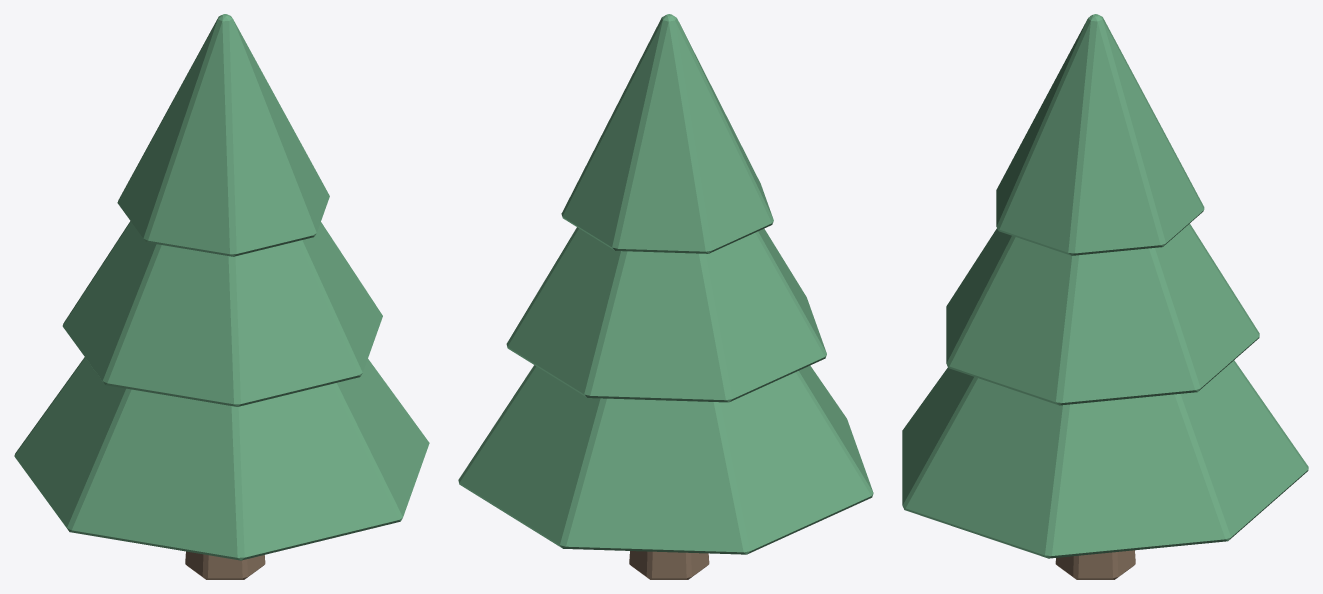
Rendered from pine_medium.glb.
3 views of the same model, side by side, from view 1: azimuth 30°, elevation 25°; view 2: azimuth 150°, elevation 25°; view 3: azimuth 270°, elevation 25° (orthographic).
Parts seen in each view (by area): view 1: Foliage1, Foliage2, Foliage3, Trunk; view 2: Foliage1, Foliage2, Foliage3, Trunk; view 3: Foliage1, Foliage2, Foliage3, Trunk.
Boxes of the visible parts, x1,y1,x2,y2 form: Foliage1: [14, 357, 429, 560]; Foliage2: [62, 221, 382, 406]; Foliage3: [117, 14, 329, 256]; Trunk: [185, 551, 265, 579]; Foliage1: [458, 365, 873, 554]; Foliage2: [506, 227, 826, 402]; Foliage3: [561, 14, 773, 253]; Trunk: [629, 551, 709, 579]; Foliage1: [902, 360, 1308, 558]; Foliage2: [946, 223, 1259, 405]; Foliage3: [996, 14, 1204, 255]; Trunk: [1055, 550, 1135, 579].
Size of the model in its own units: 1.19 by 1.74 by 1.16.
